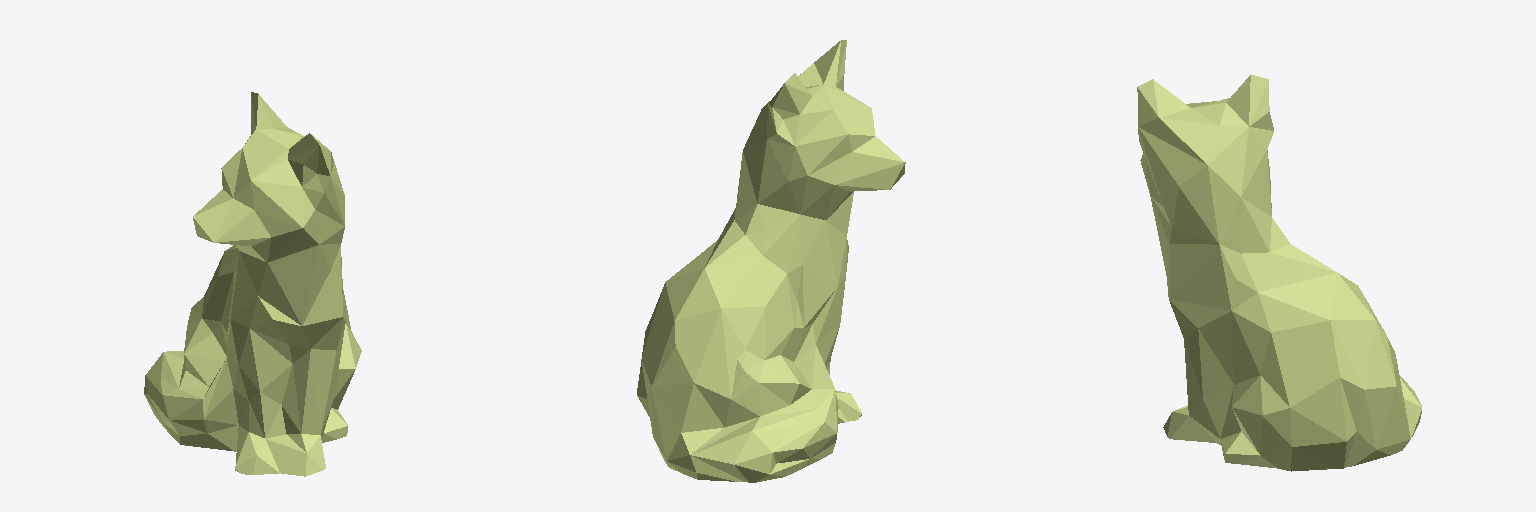
The model's file is fox.obj.
The picture shows the model from 3 angles: view 1: azimuth 30°, elevation 25°; view 2: azimuth 150°, elevation 25°; view 3: azimuth 270°, elevation 25°; orthographic projection.
Parts seen in each view (by area): view 1: Low_Poly_Fox; view 2: Low_Poly_Fox; view 3: Low_Poly_Fox.
Part boxes in pixels (left/top/right/bottom): Low_Poly_Fox: left=144, top=92, right=361, bottom=476; Low_Poly_Fox: left=637, top=40, right=905, bottom=482; Low_Poly_Fox: left=1137, top=74, right=1421, bottom=471.
Bounding box in the file's own units: 63.73 × 107 × 78.36.